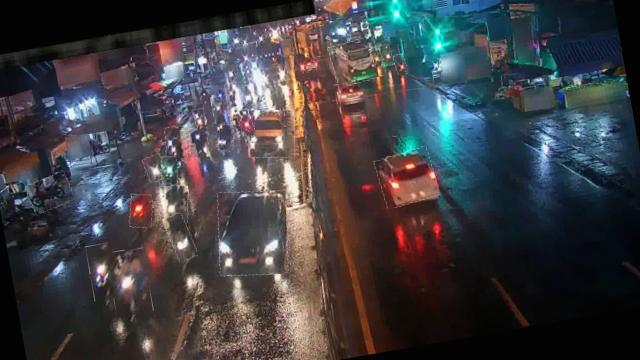Bike: (107, 248, 156, 323), (86, 241, 121, 301), (25, 172, 75, 212), (165, 212, 198, 262), (160, 182, 192, 225), (126, 192, 156, 230), (162, 125, 189, 162), (188, 126, 212, 159), (143, 154, 168, 184), (159, 155, 181, 187), (216, 122, 237, 152), (237, 108, 256, 140), (210, 95, 226, 124), (228, 104, 242, 134), (225, 82, 241, 108), (378, 42, 394, 66), (392, 53, 408, 76), (193, 108, 208, 132), (369, 46, 384, 68), (242, 84, 254, 106)
Bus: (328, 36, 384, 86)
Car: (210, 184, 296, 282), (374, 146, 440, 208), (242, 105, 300, 164), (334, 80, 366, 109)
